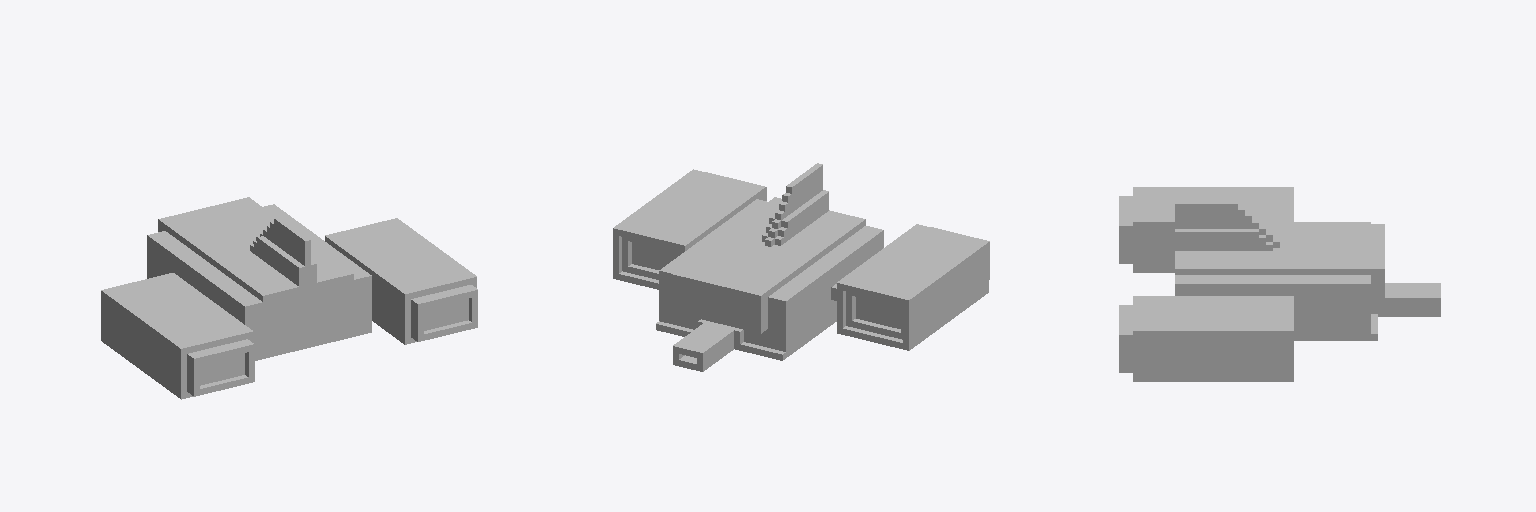
File: PlayerShip.obj
3 views of the same model, side by side, from view 1: azimuth 30°, elevation 25°; view 2: azimuth 150°, elevation 25°; view 3: azimuth 270°, elevation 25° (orthographic).
Parts seen in each view (by area): view 1: object 1; view 2: object 1; view 3: object 1.
Part boxes in pixels (bbox=[...]): object 1: bbox=[101, 197, 477, 399]; object 1: bbox=[613, 163, 989, 371]; object 1: bbox=[1119, 187, 1440, 381].
Bounding box in the file's own units: 4.9 × 1.7 × 4.6.